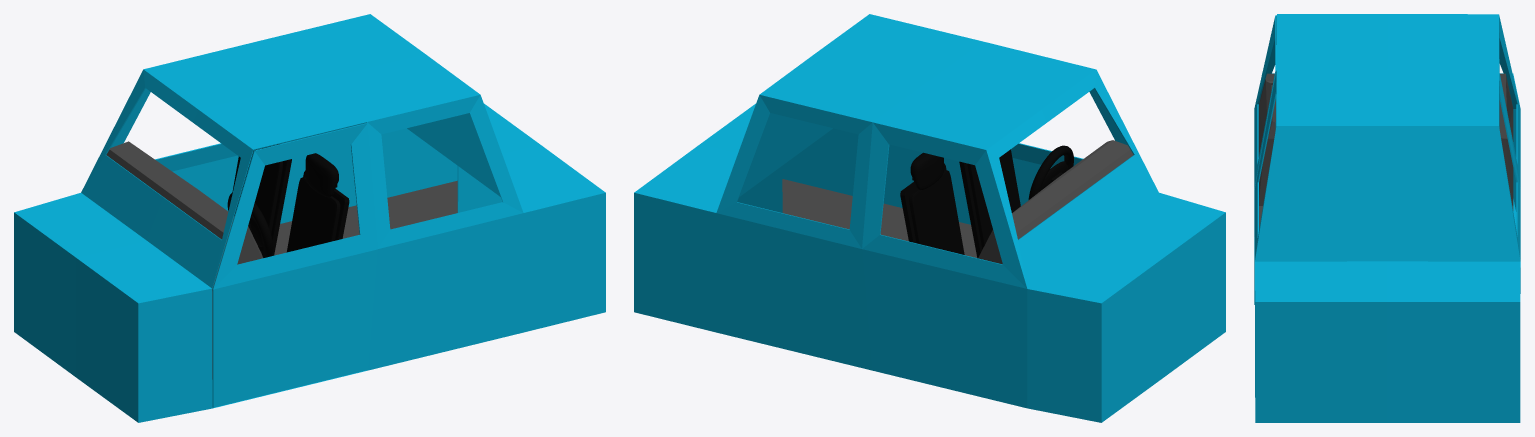
The model's file is car.fbx.
3 renders of one model, left to right at view 1: azimuth 30°, elevation 25°; view 2: azimuth 150°, elevation 25°; view 3: azimuth 270°, elevation 25°, orthographic.
Parts seen in each view (by area): view 1: Cube, Cube.003, Cube.002, Cube.001, Torus; view 2: Cube, Cube.002, Cube.001, Cube.003, Torus; view 3: Cube, Cube.002, Cube.003.
Boxes of the visible parts, x1,y1,x2,y2 form: Cube: (14,14,605,422); Cube.003: (212,123,377,407); Cube.002: (106,141,457,379); Cube.001: (232,144,349,256); Torus: (227,192,273,257); Cube: (634,14,1225,422); Cube.002: (782,140,1133,264); Cube.001: (900,149,1020,258); Cube.003: (1011,88,1127,205); Torus: (1028,145,1073,199); Cube: (1254,14,1520,422); Cube.002: (1258,73,1513,229); Cube.003: (1254,15,1276,304).
Size of the model in its own units: 411 by 202 by 202.
